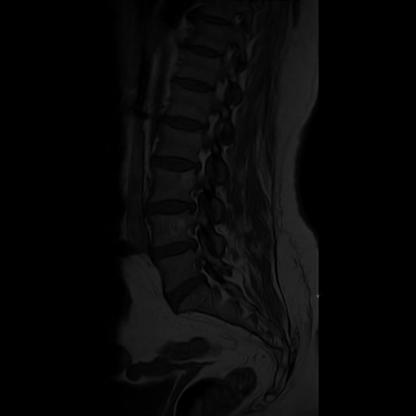Disc Bulgerotation: (142, 195, 204, 221), (144, 236, 208, 261), (146, 151, 207, 176)
